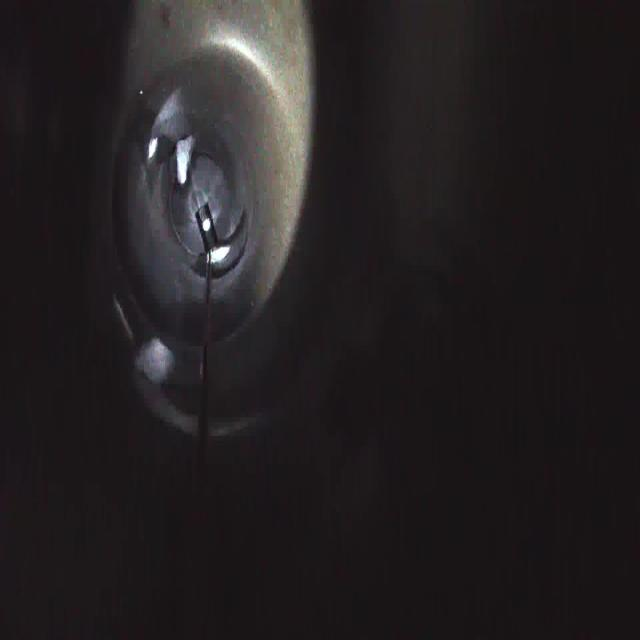impurity: (171, 126, 199, 189)
